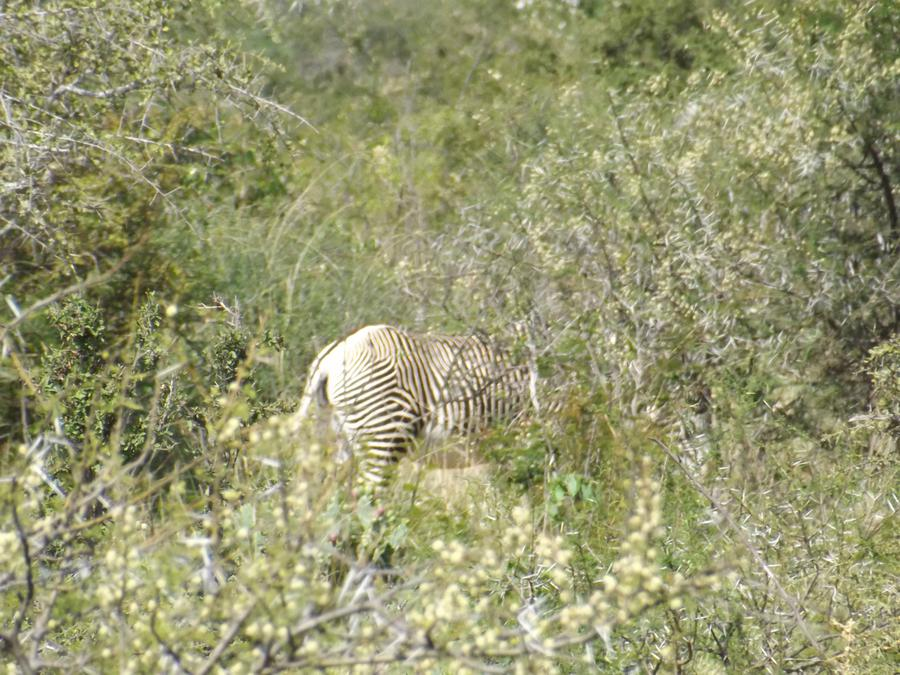zebra_grevys: (305, 308, 523, 457)
